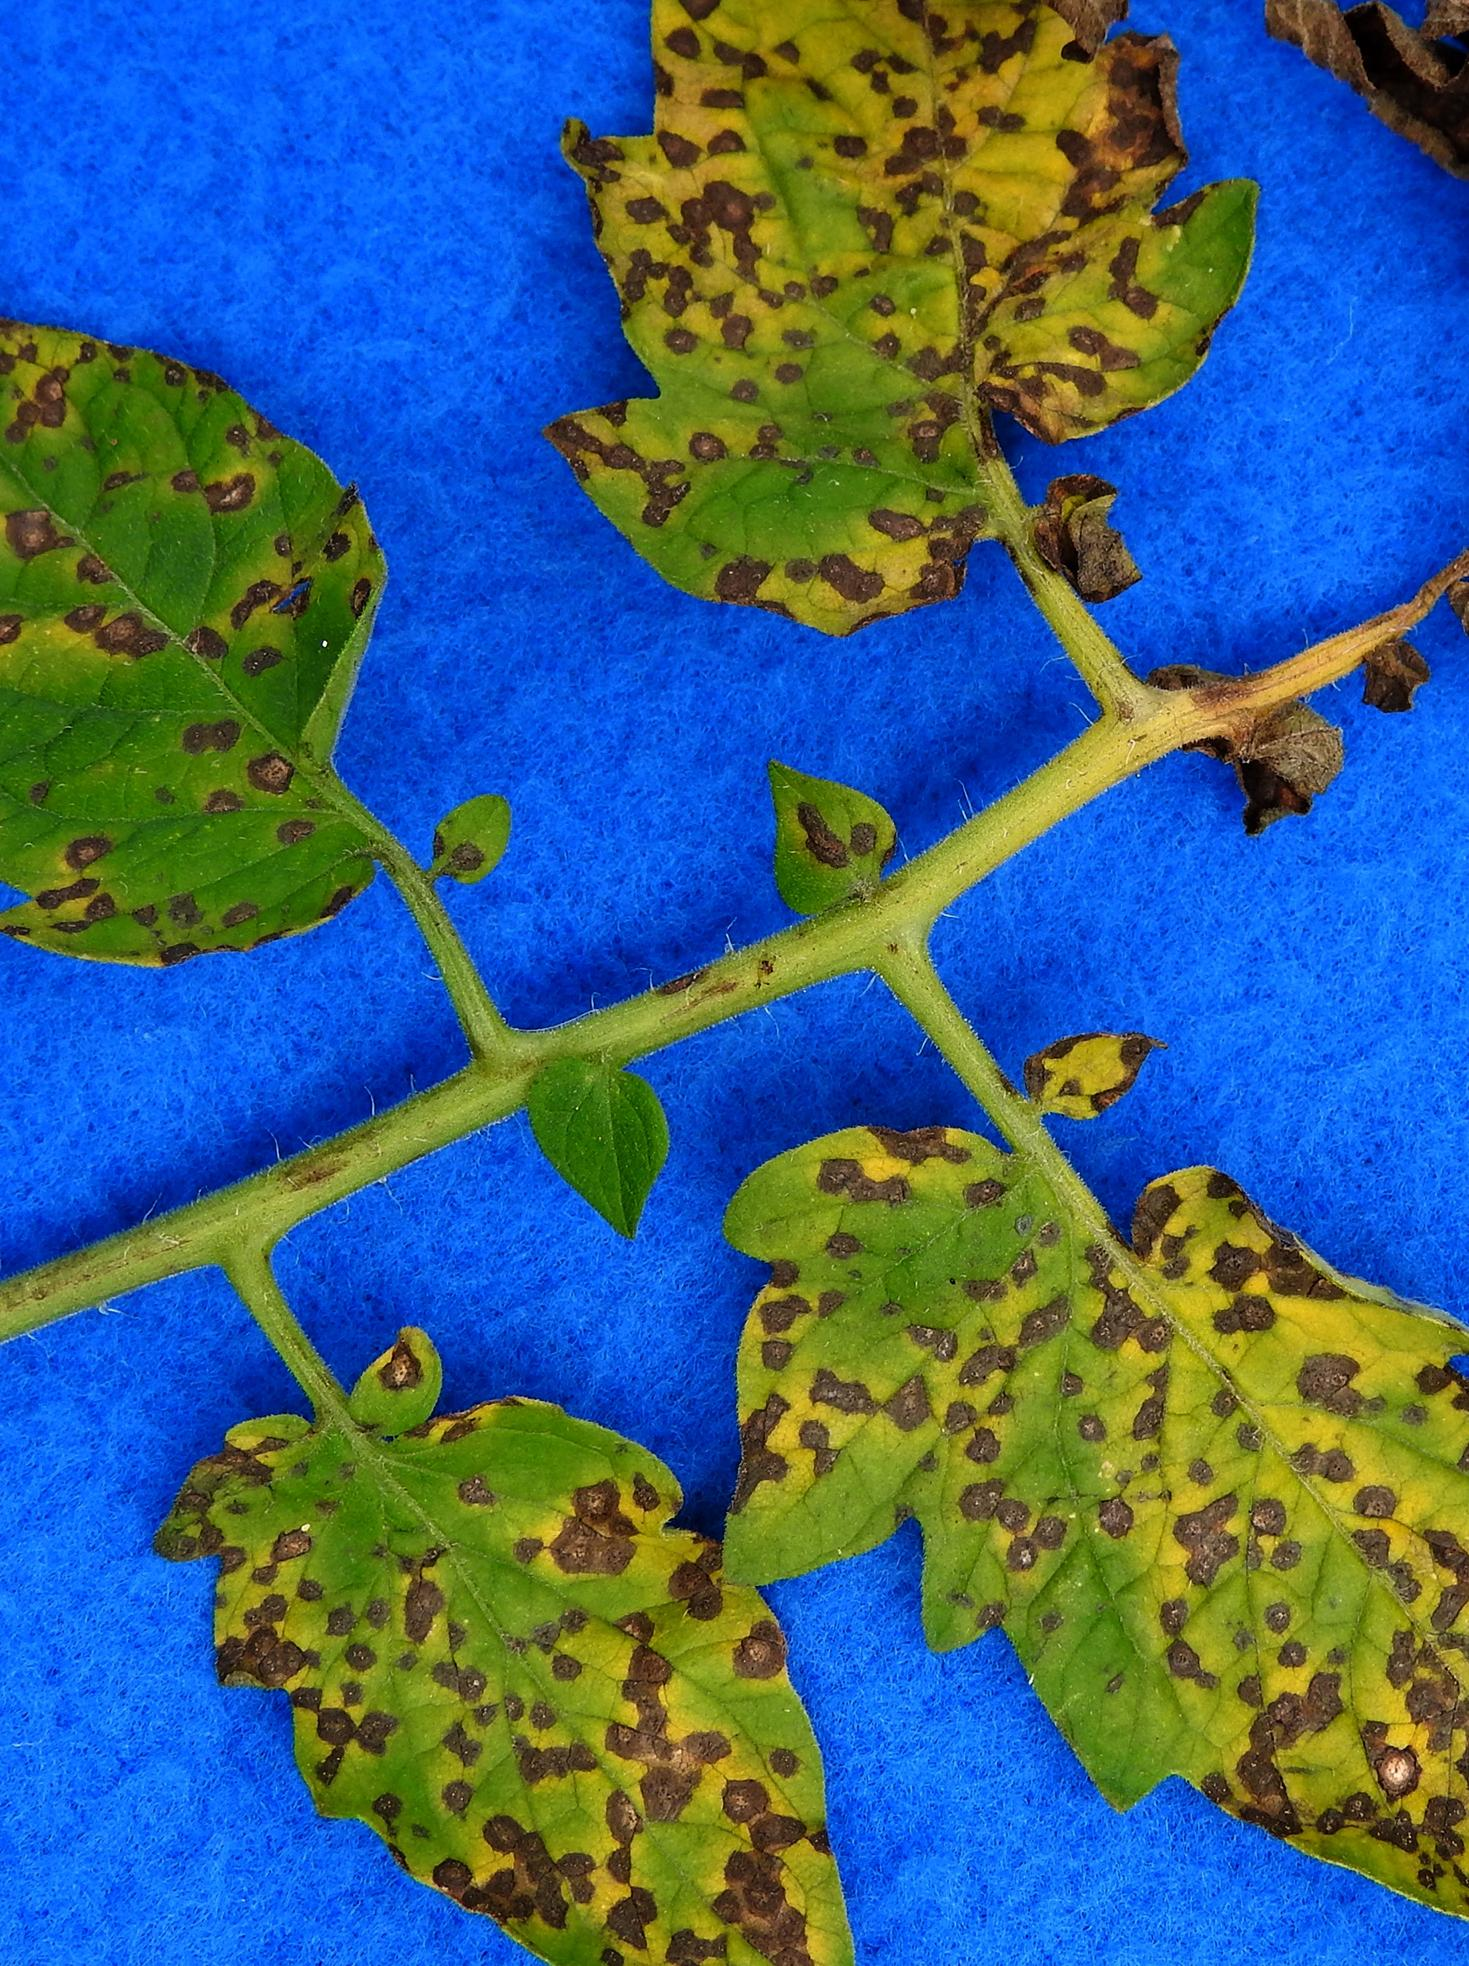Tomato Septoria leaf spot: (721, 1066, 1469, 1966), (549, 0, 1319, 630), (162, 1327, 859, 1966), (0, 171, 431, 1042)
